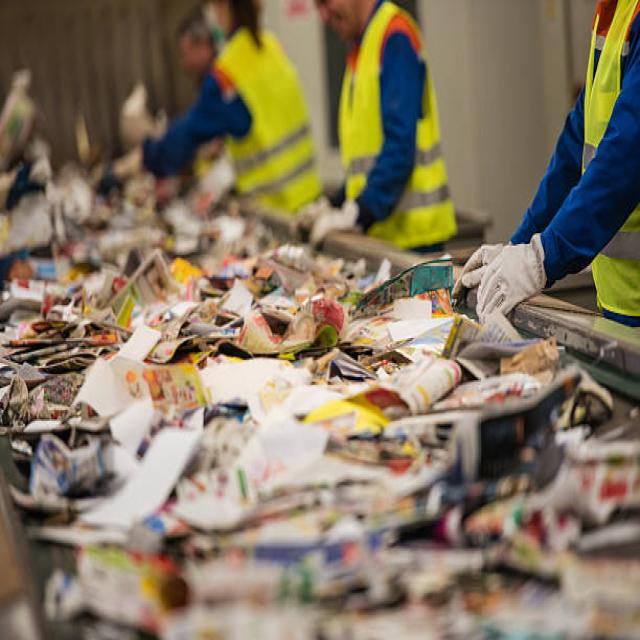paper: (4, 211, 622, 537)
